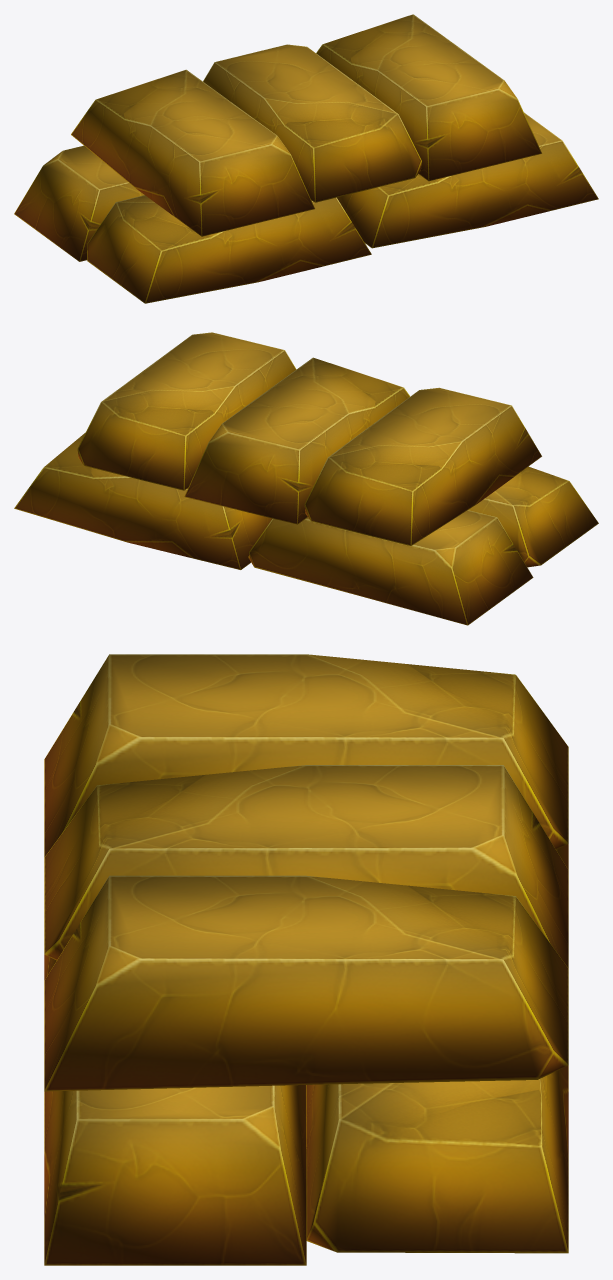
The model's file is Gold-15.fbx.
3 views of the same model, one above another, from view 1: azimuth 30°, elevation 25°; view 2: azimuth 150°, elevation 25°; view 3: azimuth 270°, elevation 25° (orthographic). The views are drawn at different scales.
Visible parts, largest first — view 1: Gold-15; view 2: Gold-15; view 3: Gold-15.
Boxes of the visible parts, <box> form: Gold-15: <box>14,14,598,303</box>; Gold-15: <box>14,332,598,625</box>; Gold-15: <box>44,654,568,1265</box>.
Bounding box in the file's own units: 0.3 × 0.075 × 0.15.
1 material, 1 textured.
